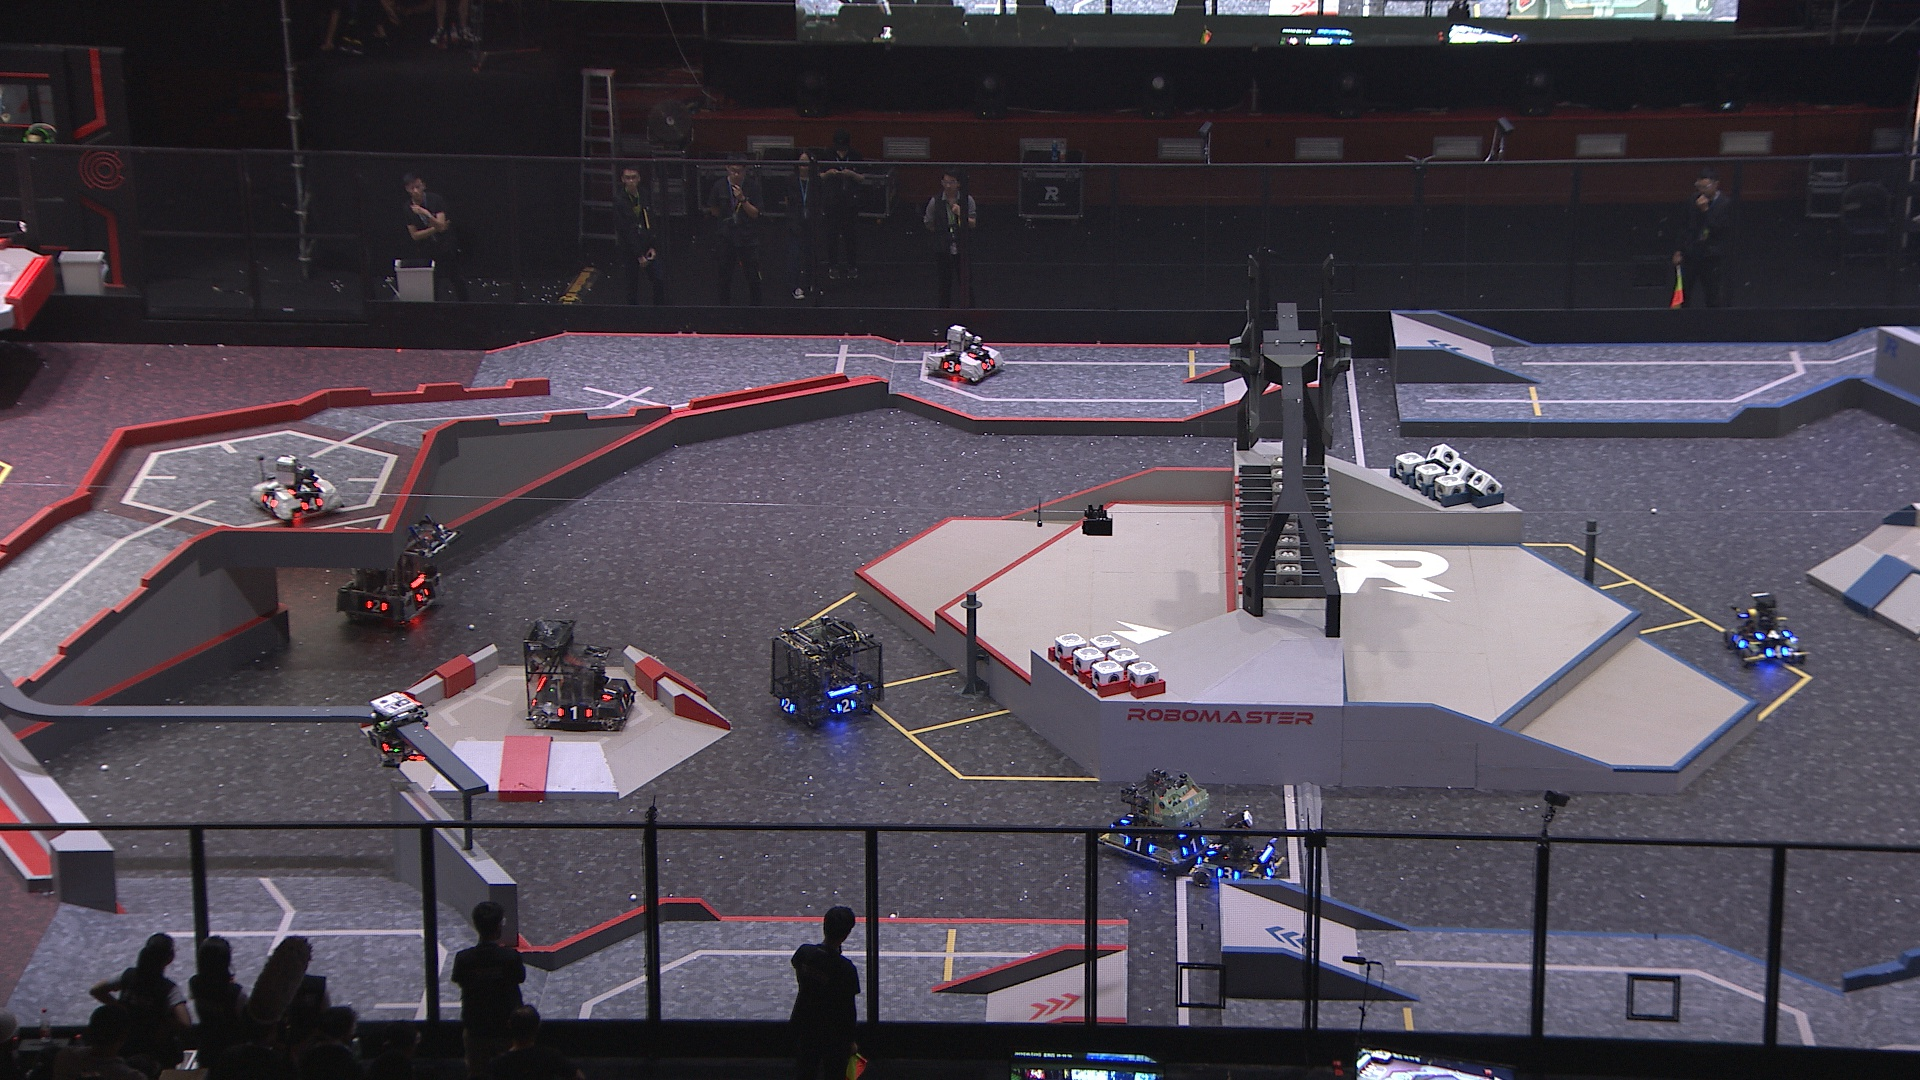armor: (555, 703, 595, 723), (1120, 833, 1154, 855), (1179, 837, 1207, 858), (365, 731, 392, 752), (832, 698, 858, 716), (1753, 629, 1793, 641), (363, 597, 389, 615), (286, 483, 323, 495), (411, 585, 430, 607), (301, 496, 324, 512), (1215, 865, 1240, 880), (942, 357, 963, 375), (1263, 858, 1280, 878), (600, 684, 618, 702), (779, 698, 799, 713), (1764, 645, 1789, 657), (1731, 633, 1747, 651), (1204, 840, 1222, 855), (258, 495, 277, 509), (968, 347, 988, 360), (618, 692, 632, 711), (982, 356, 996, 371)
car: (767, 618, 885, 731), (1091, 767, 1215, 872), (520, 618, 633, 732), (332, 526, 458, 626), (1188, 806, 1287, 887), (1718, 593, 1809, 670), (248, 456, 342, 526), (926, 324, 1005, 386)
watcher: (361, 692, 429, 766)
